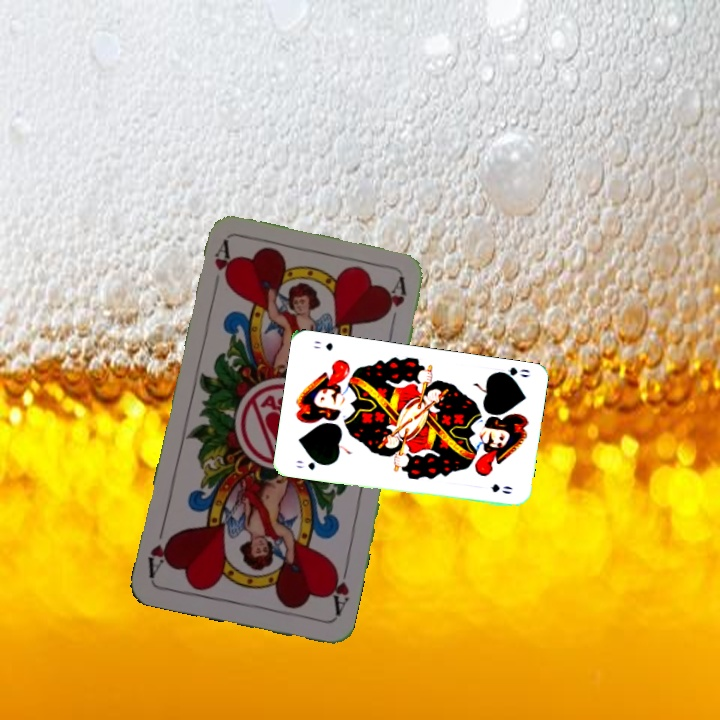GO: (492, 363, 532, 383), (292, 456, 329, 473)
HA: (208, 237, 237, 296), (325, 561, 352, 620)
